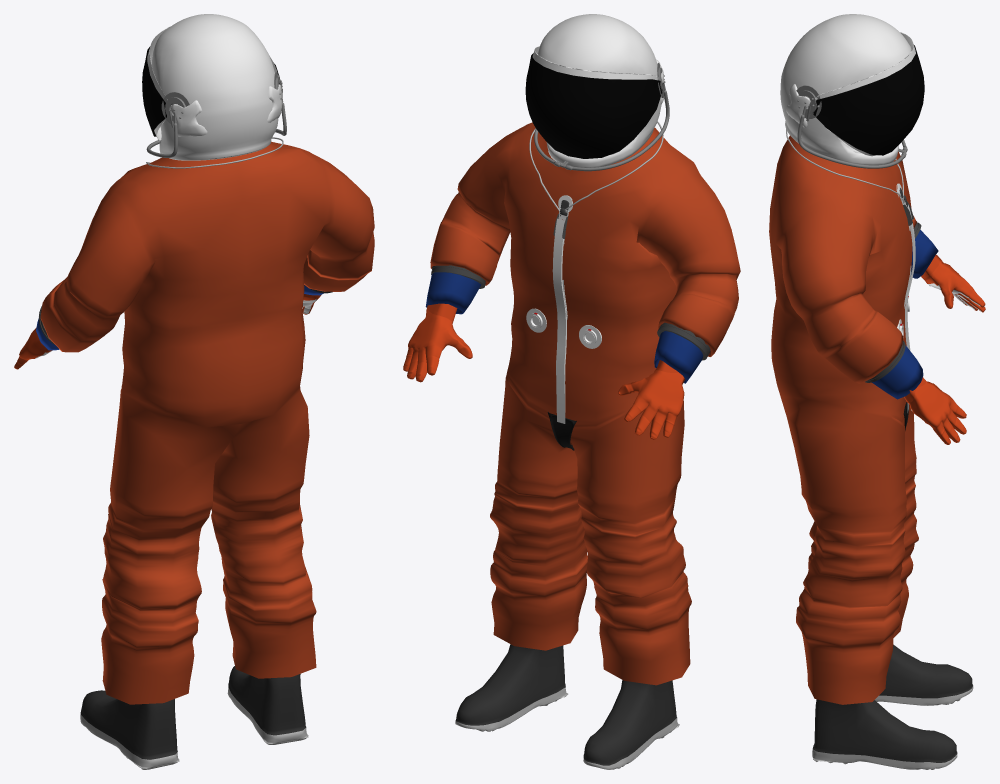
File: acesjustforroomshow.FBX
3 views of the same model, side by side, from view 1: azimuth 30°, elevation 25°; view 2: azimuth 150°, elevation 25°; view 3: azimuth 270°, elevation 25° (orthographic). The views are drawn at different scales.
Parts seen in each view (by area): view 1: acesjustforroomshow; view 2: acesjustforroomshow; view 3: acesjustforroomshow.
Boxes of the visible parts, x1,y1,x2,y2 form: acesjustforroomshow: (14,14,374,769); acesjustforroomshow: (403,14,740,769); acesjustforroomshow: (769,14,985,769).
Bounding box in the file's own units: 0.8872 × 0.5549 × 2.
